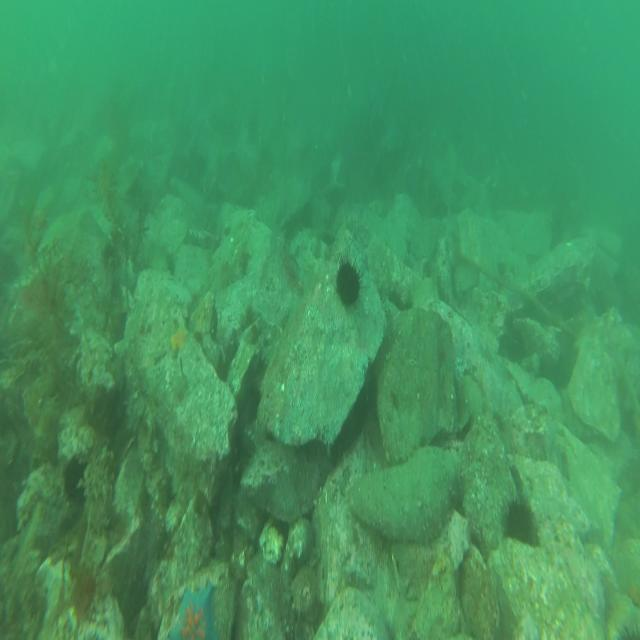echinus: (334, 260, 366, 312), (501, 501, 535, 546), (65, 449, 92, 502)
starfish: (164, 584, 217, 640)
